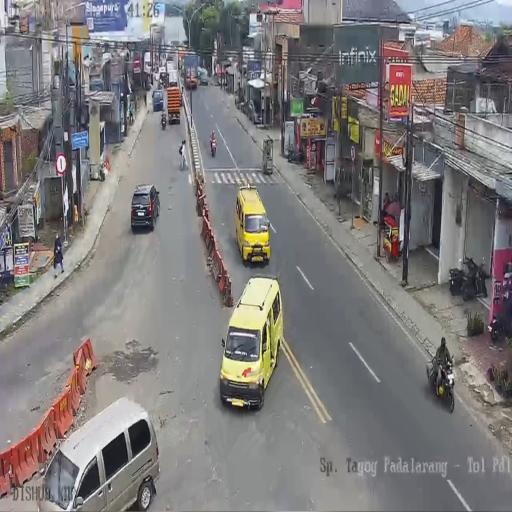car: (36, 397, 160, 510), (218, 275, 282, 409), (235, 183, 271, 267), (131, 183, 161, 232), (152, 89, 164, 112), (158, 65, 168, 84), (198, 67, 208, 85)
motorcycle: (427, 349, 455, 412), (449, 257, 487, 302), (489, 294, 512, 343), (286, 146, 304, 164), (210, 134, 217, 157), (160, 115, 166, 130)
truck: (166, 82, 182, 126), (184, 54, 199, 91), (166, 58, 175, 84)
